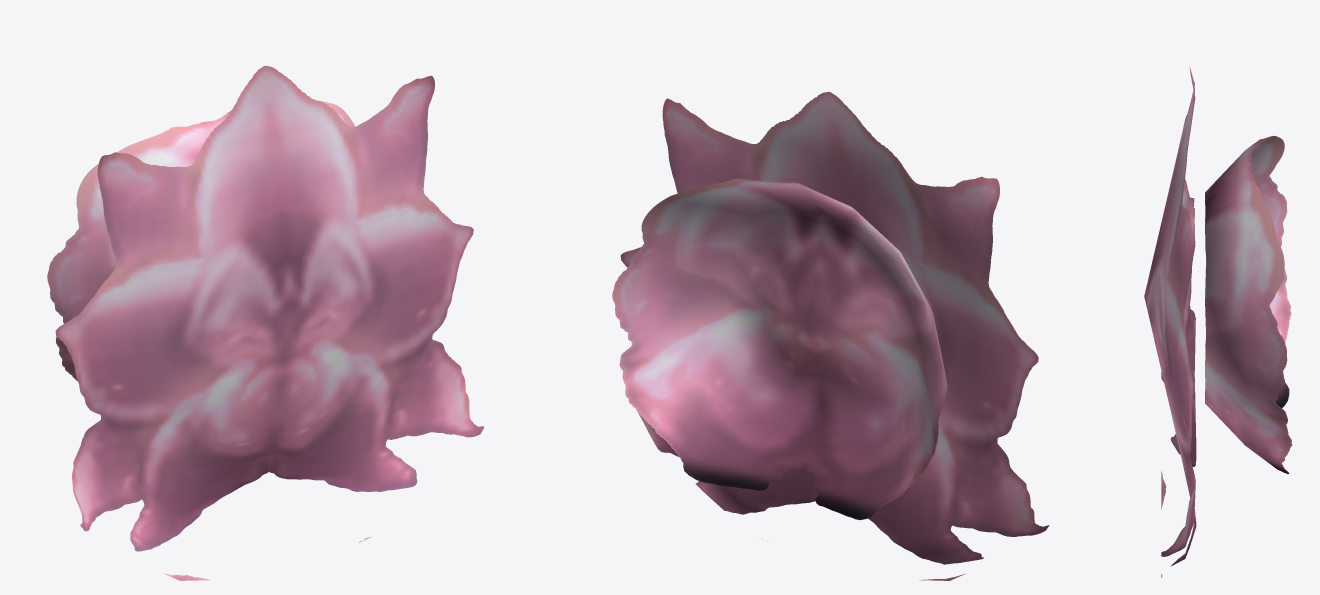
File: huamoxing_gl_hh.FBX
The picture shows the model from 3 angles, left to right: view 1: azimuth 30°, elevation 25°; view 2: azimuth 150°, elevation 25°; view 3: azimuth 270°, elevation 25°; orthographic projection. The views are drawn at different scales.
Parts seen in each view (by area): view 1: huamoxing_gl_hh; view 2: huamoxing_gl_hh; view 3: huamoxing_gl_hh.
Boxes of the visible parts, left/top/right/bottom form: huamoxing_gl_hh: left=47, top=65, right=484, bottom=580; huamoxing_gl_hh: left=612, top=91, right=1049, bottom=580; huamoxing_gl_hh: left=1144, top=67, right=1292, bottom=577.
Size of the model in its own units: 3.71 by 3.71 by 1.05.
1 material, 1 textured.
